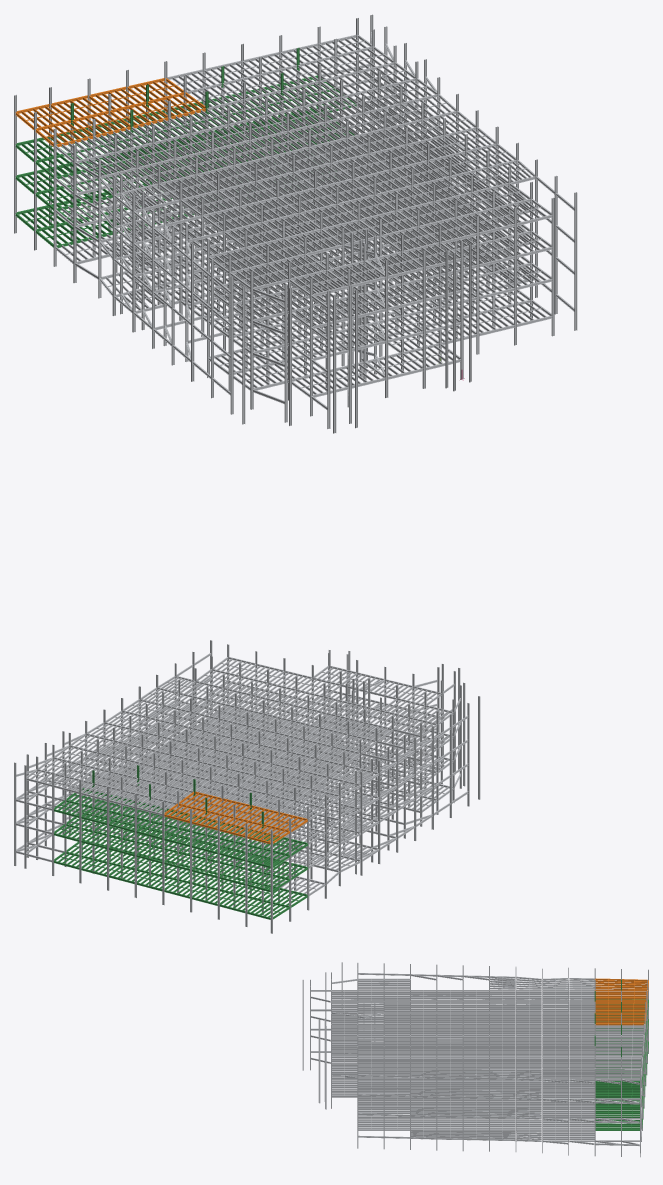
Rendered from ismerely_obra_h19a.glb.
3 renders of one model, top to bottom at view 1: azimuth 30°, elevation 25°; view 2: azimuth 150°, elevation 25°; view 3: azimuth 270°, elevation 25°, orthographic. The views are drawn at different scales.
Visible parts, largest first — view 1: RA_GRIS, RA_VERDE, RA_NARANJA; view 2: RA_GRIS, RA_VERDE, RA_NARANJA; view 3: RA_GRIS, RA_VERDE, RA_NARANJA.
Boxes of the visible parts, x1,y1,x2,y2 form: RA_GRIS: (14, 14, 577, 433); RA_VERDE: (15, 48, 356, 247); RA_NARANJA: (15, 78, 205, 146); RA_GRIS: (14, 640, 480, 933); RA_VERDE: (54, 765, 307, 919); RA_NARANJA: (164, 791, 307, 844); RA_GRIS: (302, 962, 648, 1157); RA_VERDE: (594, 979, 648, 1130); RA_NARANJA: (594, 978, 648, 1025).
Bounding box in the file's own units: 89.53 × 28 × 193.
